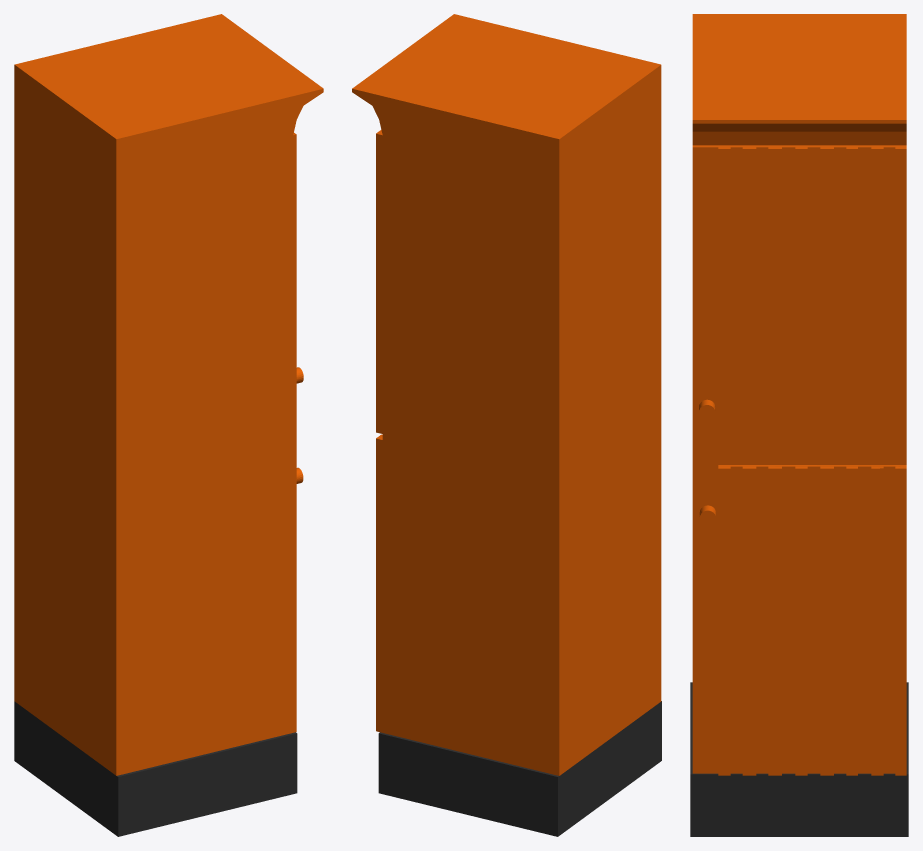
File: locker.fbx
The picture shows the model from 3 angles, left to right: view 1: azimuth 30°, elevation 25°; view 2: azimuth 150°, elevation 25°; view 3: azimuth 270°, elevation 25°; orthographic projection. The views are drawn at different scales.
Parts seen in each view (by area): view 1: ID20, Cube; view 2: ID20, Cube; view 3: ID20, Cube, ID38.
Boxes of the visible parts, box(x1,y1,x2,y2) form: ID20: box(14, 14, 323, 775); Cube: box(14, 701, 297, 836); ID20: box(352, 14, 661, 775); Cube: box(378, 701, 661, 836); ID20: box(692, 14, 906, 775); Cube: box(690, 682, 908, 836); ID38: box(774, 123, 830, 131).
Bounding box in the file's own units: 24.02 × 77.16 × 20.87.
